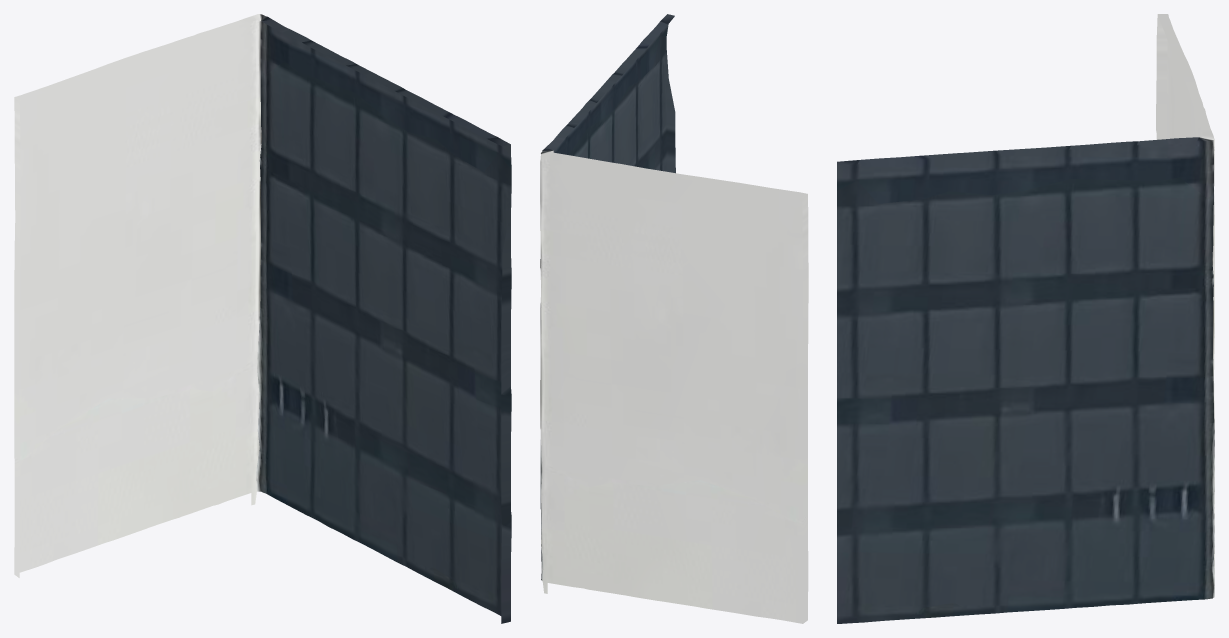
File: z20-167756-405235-h1-yup-uvflip-v3-world.glb
3 renders of one model, left to right at view 1: azimuth 30°, elevation 25°; view 2: azimuth 150°, elevation 25°; view 3: azimuth 270°, elevation 25°, orthographic. The views are drawn at different scales.
Bounding box in the file's own units: 16.36 × 23.56 × 17.16.
Materials: 1 (1 with a texture image).
